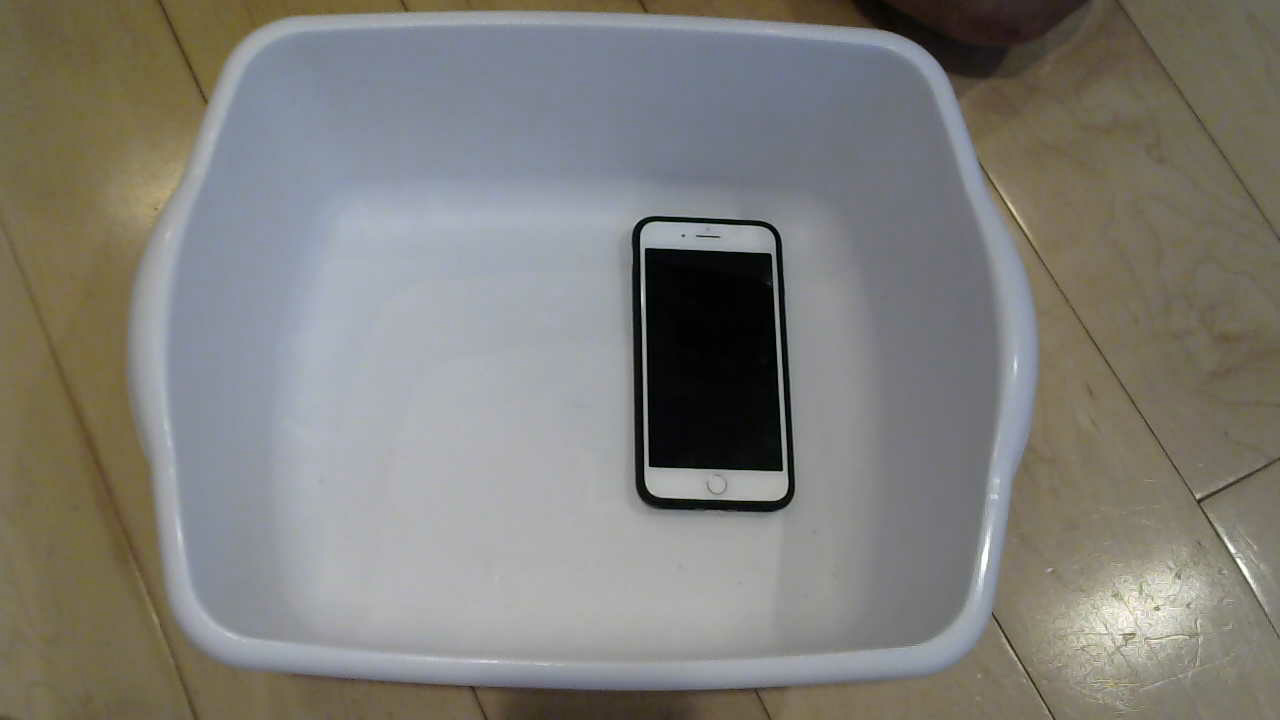phone: (619, 217, 804, 528)
